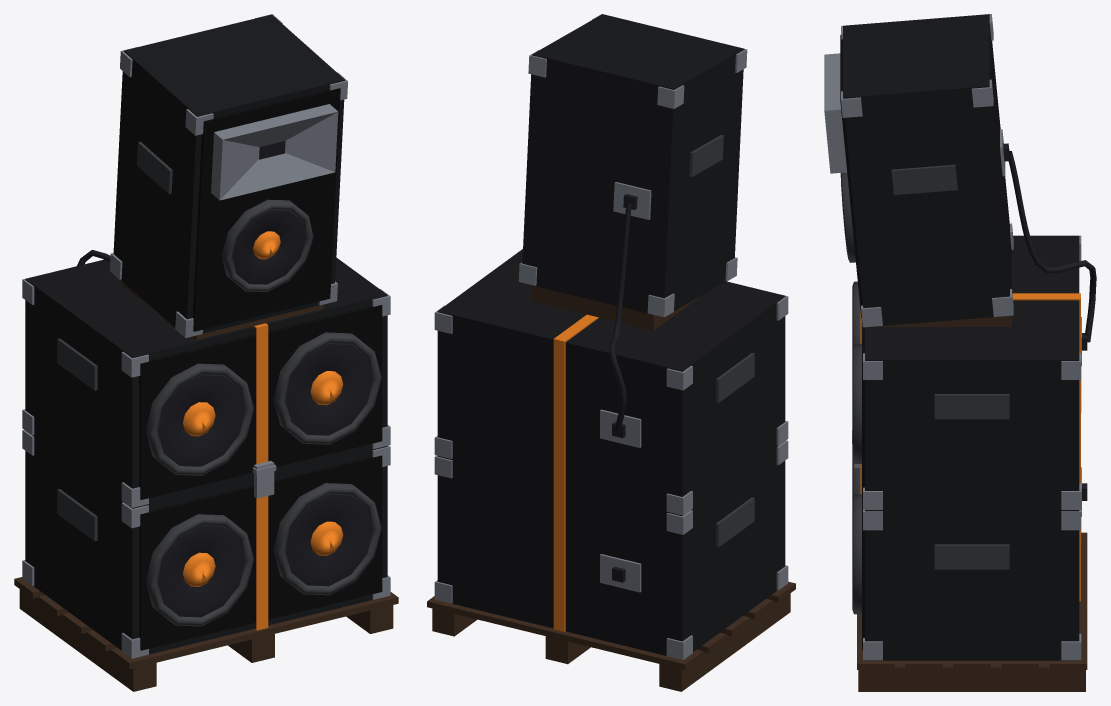
The model's file is Speakers.fbx.
3 renders of one model, left to right at view 1: azimuth 30°, elevation 25°; view 2: azimuth 150°, elevation 25°; view 3: azimuth 270°, elevation 25°, orthographic. The views are drawn at different scales.
Visible parts, largest first — view 1: Speakers_Festival_151619, Speakers_Festival_090A0B, Speakers_Festival_1B1B22, Speakers_Festival_3A3C40, Speakers_Festival_7D828C, Speakers_Festival_3D2A1C, Speakers_Festival_ED7E1D; view 2: Speakers_Festival_151619, Speakers_Festival_3D2A1C, Speakers_Festival_7D828C, Speakers_Festival_ED7E1D, Speakers_Festival_3A3C40, Speakers_Festival_1B1B22; view 3: Speakers_Festival_151619, Speakers_Festival_3A3C40, Speakers_Festival_3D2A1C, Speakers_Festival_7D828C, Speakers_Festival_1B1B22, Speakers_Festival_090A0B, Speakers_Festival_ED7E1D.
Part boxes in pixels (<box>): Speakers_Festival_151619: <box>25,14,387,654</box>; Speakers_Festival_090A0B: <box>139,88,382,650</box>; Speakers_Festival_1B1B22: <box>77,140,372,617</box>; Speakers_Festival_3A3C40: <box>57,141,381,626</box>; Speakers_Festival_7D828C: <box>22,14,390,658</box>; Speakers_Festival_3D2A1C: <box>14,282,398,691</box>; Speakers_Festival_ED7E1D: <box>183,231,343,630</box>; Speakers_Festival_151619: <box>437,14,785,655</box>; Speakers_Festival_3D2A1C: <box>427,285,795,691</box>; Speakers_Festival_7D828C: <box>434,14,788,659</box>; Speakers_Festival_ED7E1D: <box>553,314,598,631</box>; Speakers_Festival_3A3C40: <box>689,135,754,547</box>; Speakers_Festival_1B1B22: <box>609,194,637,582</box>; Speakers_Festival_151619: <box>843,14,1079,660</box>; Speakers_Festival_3A3C40: <box>840,164,1009,614</box>; Speakers_Festival_3D2A1C: <box>857,315,1087,691</box>; Speakers_Festival_7D828C: <box>824,14,1081,660</box>; Speakers_Festival_1B1B22: <box>1003,143,1096,500</box>; Speakers_Festival_090A0B: <box>840,35,864,649</box>; Speakers_Festival_ED7E1D: <box>860,293,1080,601</box>.
Size of the model in its own units: 1.16 by 2.39 by 1.02.
